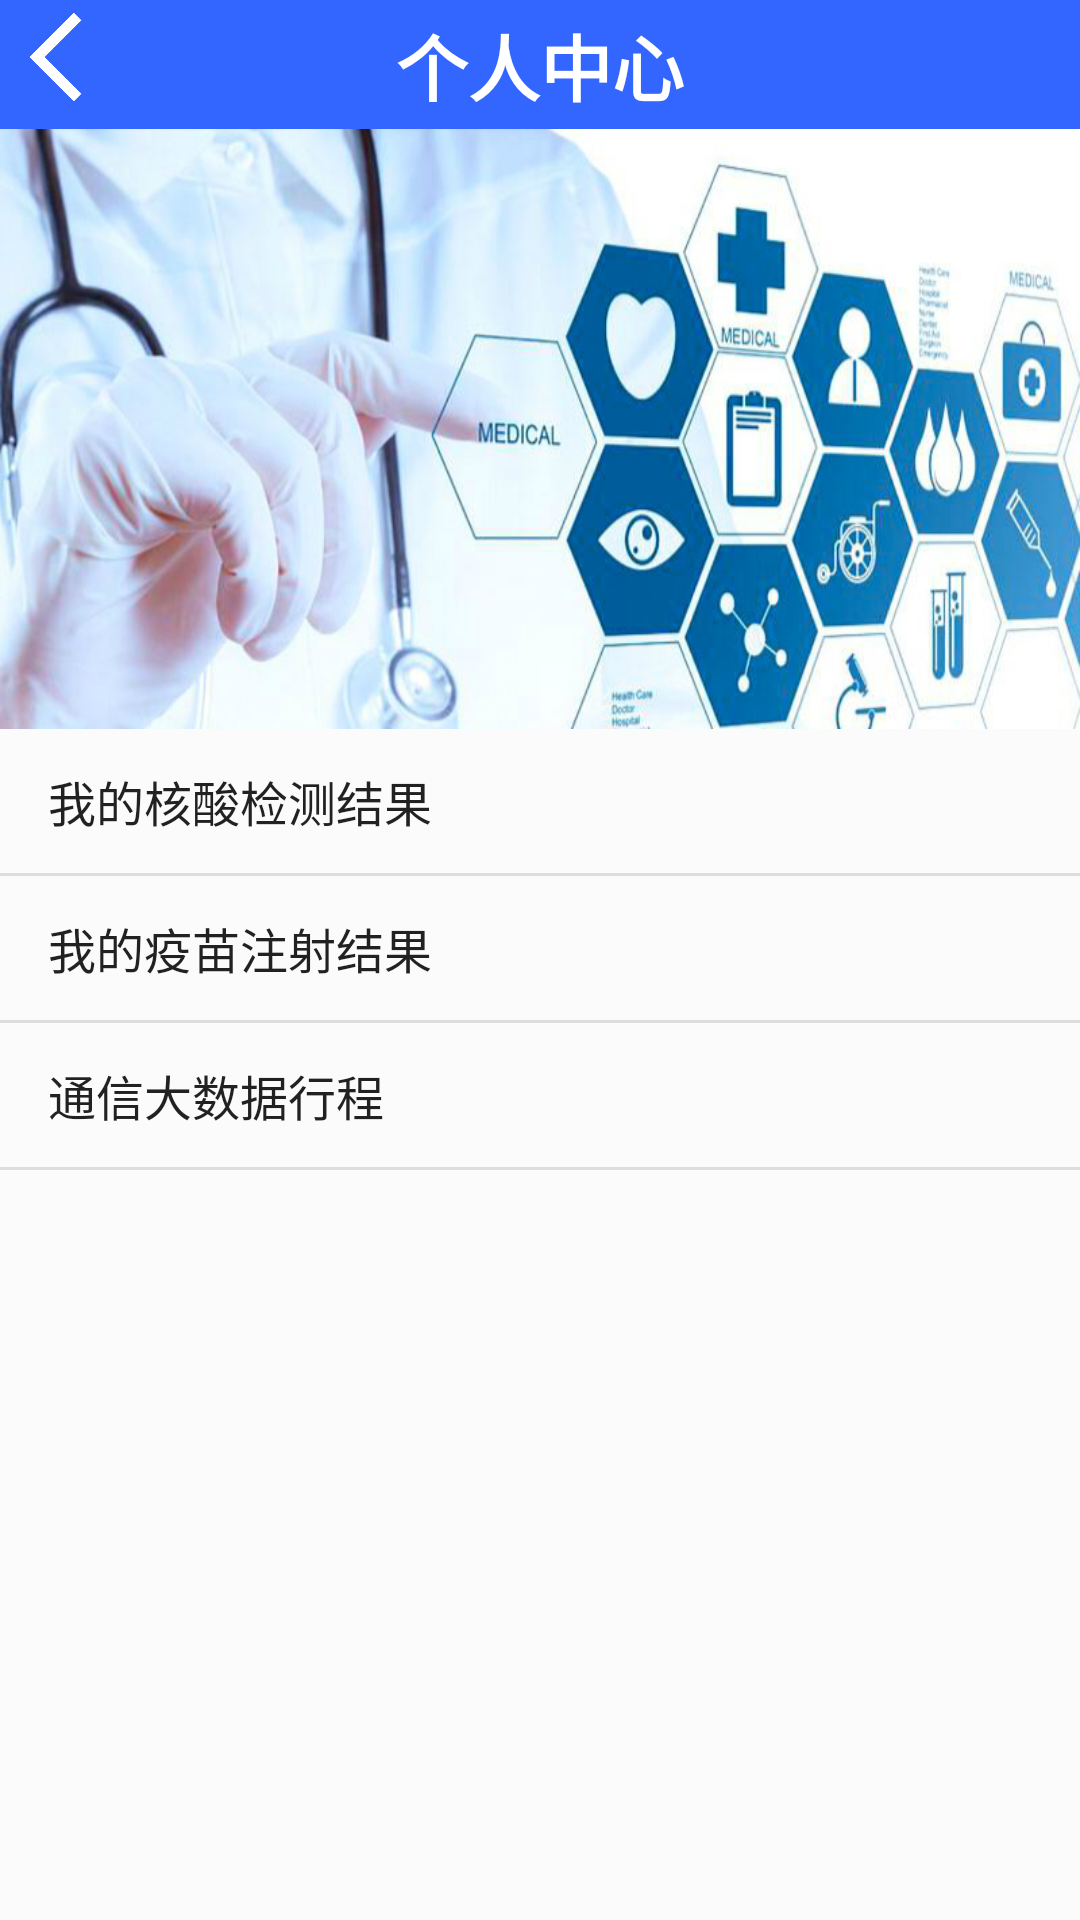

Screen size 1080*1920. Icon name, then its center in pixels as (x=x, y=y):
back: (x=56, y=57)
